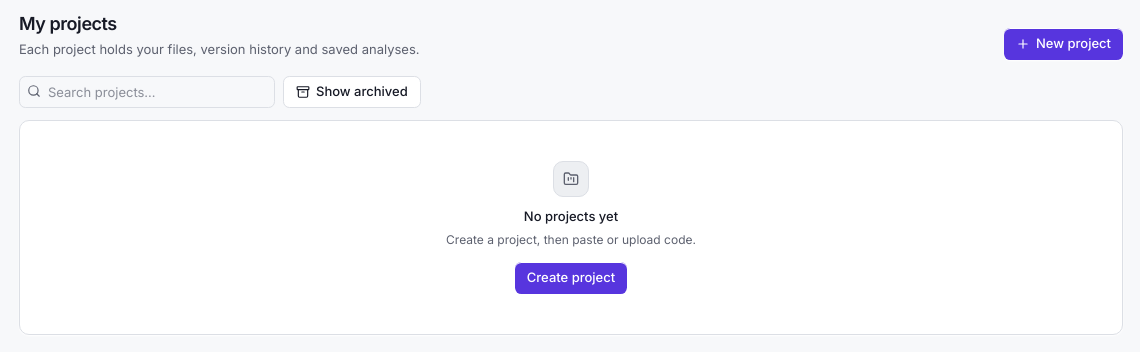
Test: Projects page › searches via the server
Type "xyz" into the field labelled "Search projects" at [147, 92], box top-left (19, 76), bottom-right (275, 108)
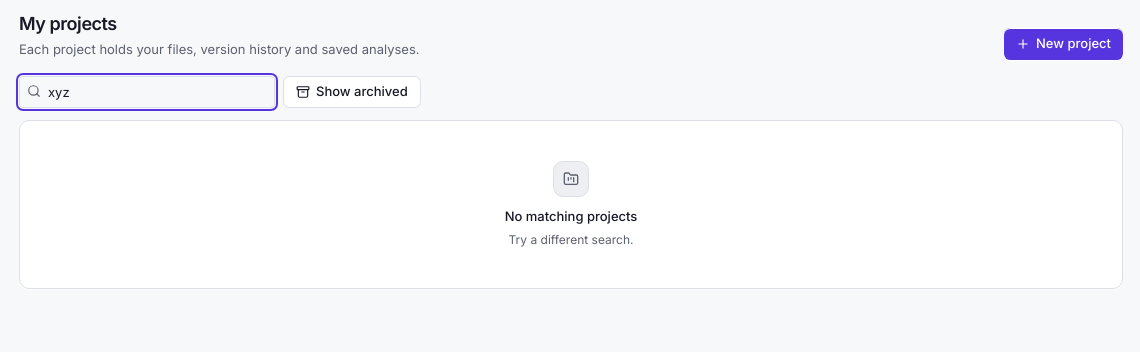
Now the text "No matching projects" is shown, box top-left (505, 206), bottom-right (637, 226)
